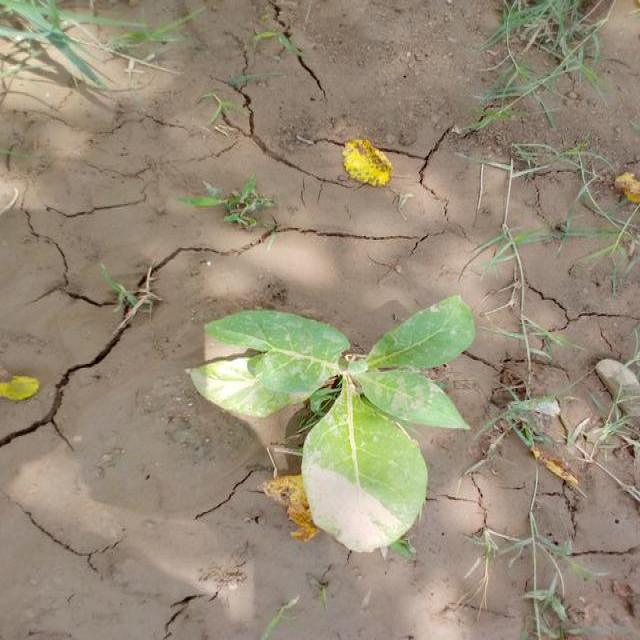crop: (193, 294, 480, 560)
